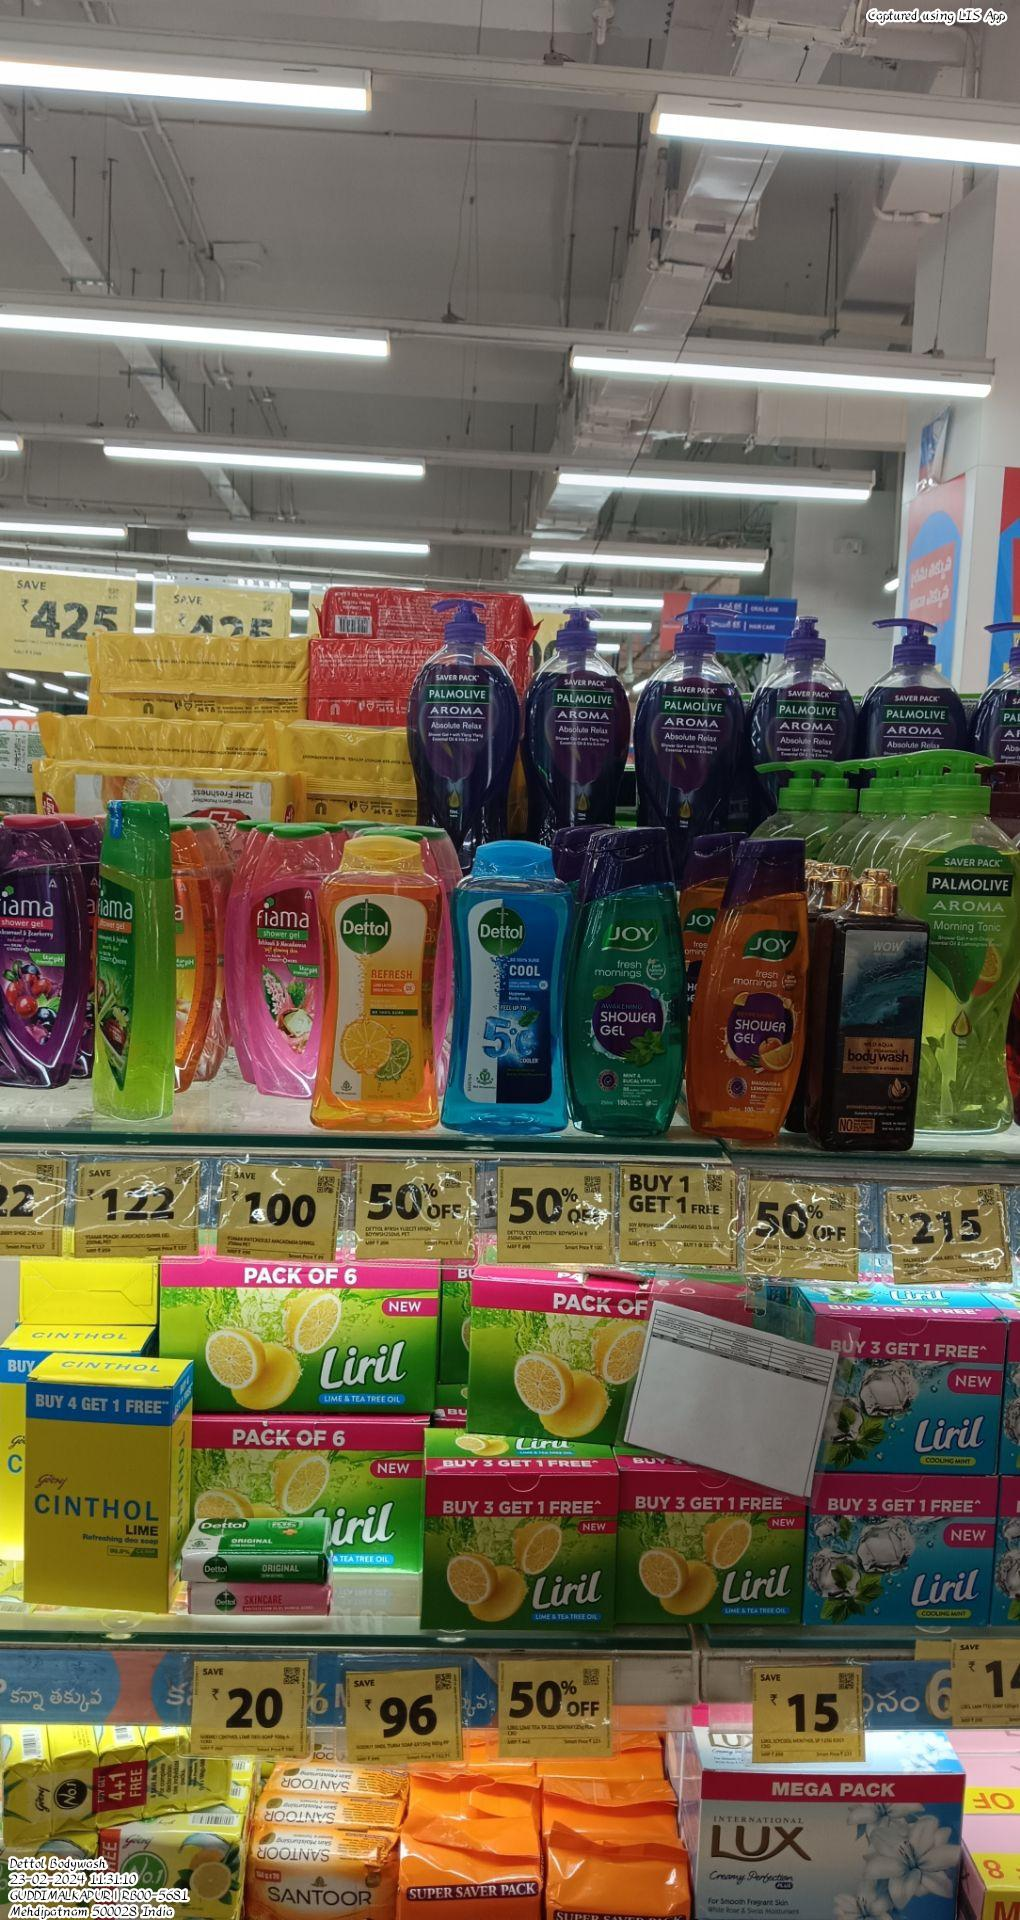Dettol_Bodywash_Cool: (450, 842, 574, 1137)
Dettol_Bodywash_Refresh: (312, 838, 442, 1128)
Fiama_Shower_Gel_Lemongrass_and_Jojoba_250ML: (91, 797, 171, 1123)
Joy_Shower_Gel_Mandarin_and_Lemongrass_250ML: (699, 842, 812, 1134)
Joy_Shower_Gel_Mint_and_Eucalyptus_250ML: (574, 834, 683, 1134)
